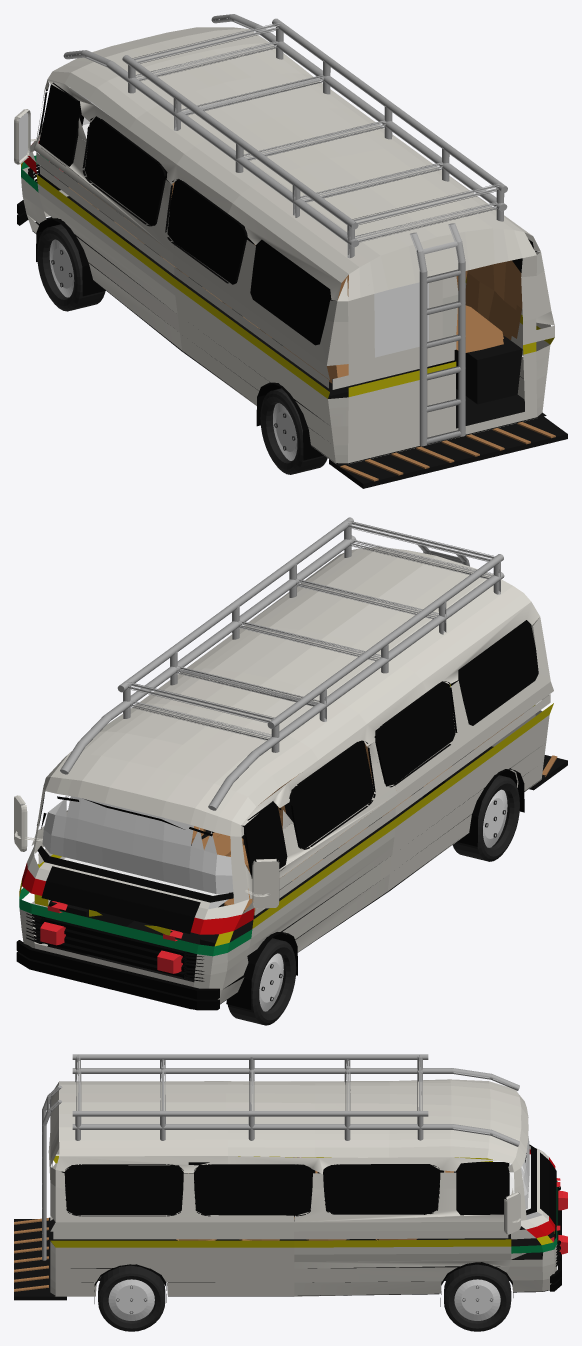
Rendered from sf_ndiaga.glb.
3 views of the same model, one above another, from view 1: azimuth 30°, elevation 25°; view 2: azimuth 150°, elevation 25°; view 3: azimuth 270°, elevation 25° (orthographic). The views are drawn at different scales.
Parts seen in each view (by area): view 1: Carosserie_Material_0, Cylinder.023_Material.010_0, Glass_Material.004_0, object 7, Cylinder.057_Material.010_0, Cube.069_Material.003_0, Carosserie_Material.014_0, Wheel_2, Cube.020_Material.003_0, Wheel_1, Plane.010_Material.012_0, Plane_Material.003_0 (+3 smaller); view 2: Carosserie_Material_0, Cylinder.023_Material.010_0, Glass_Material.004_0, Carosserie_Material.009_0, parechock_Material.002_0, Plane.009_Material.001_0, Wheel_2, Carosserie_Material.014_0, Carosserie_Material.004_0, Wheel_1, Carosserie_Material.016_0, Parebrises_Material_0 (+8 smaller); view 3: Carosserie_Material_0, Glass_Material.004_0, Cylinder.023_Material.010_0, Carosserie_Material.014_0, Wheel_3, Wheel_0, Cube.069_Material.003_0, Plane_Material.003_0, Carosserie_Material.004_0, Cylinder.057_Material.010_0, Plane.009_Material.001_0, Parebrises_Material_0 (+5 smaller).
Boxes of the visible parts, box(x1,y1,x2,y2) form: Carosserie_Material_0: box(21, 27, 554, 463); Cylinder.023_Material.010_0: box(63, 14, 507, 258); Glass_Material.004_0: box(39, 84, 533, 345); object 7: box(69, 182, 522, 383); Cylinder.057_Material.010_0: box(410, 223, 465, 446); Cube.069_Material.003_0: box(329, 416, 567, 488); Carosserie_Material.014_0: box(21, 162, 554, 398); Wheel_2: box(37, 224, 105, 311); Cube.020_Material.003_0: box(430, 335, 522, 404); Wheel_1: box(260, 388, 327, 474); Plane.010_Material.012_0: box(374, 270, 431, 357); Plane_Material.003_0: box(32, 217, 546, 465); Carosserie_Material_0: box(19, 547, 553, 1003); Cylinder.023_Material.010_0: box(60, 517, 504, 810); Glass_Material.004_0: box(241, 620, 538, 874); Carosserie_Material.009_0: box(42, 795, 233, 894); parechock_Material.002_0: box(16, 913, 219, 1010); Plane.009_Material.001_0: box(41, 866, 200, 933); Wheel_2: box(227, 938, 296, 1025); Carosserie_Material.014_0: box(19, 684, 553, 946); Carosserie_Material.004_0: box(37, 681, 457, 902); Wheel_1: box(452, 775, 519, 861); Carosserie_Material.016_0: box(19, 887, 252, 956); Parebrises_Material_0: box(14, 795, 279, 908); Carosserie_Material_0: box(48, 1079, 557, 1296); Glass_Material.004_0: box(61, 1162, 509, 1216); Cylinder.023_Material.010_0: box(72, 1054, 519, 1146); Carosserie_Material.014_0: box(50, 1155, 554, 1247); Wheel_3: box(444, 1264, 511, 1331); Wheel_0: box(98, 1265, 165, 1331); Cube.069_Material.003_0: box(14, 1219, 66, 1300); Plane_Material.003_0: box(49, 1217, 554, 1296); Carosserie_Material.004_0: box(64, 1144, 536, 1216); Cylinder.057_Material.010_0: box(42, 1085, 61, 1260); Plane.009_Material.001_0: box(540, 1152, 556, 1226); Parebrises_Material_0: box(504, 1192, 520, 1234).
Size of the model in its own units: 2.58 by 2.49 by 6.
